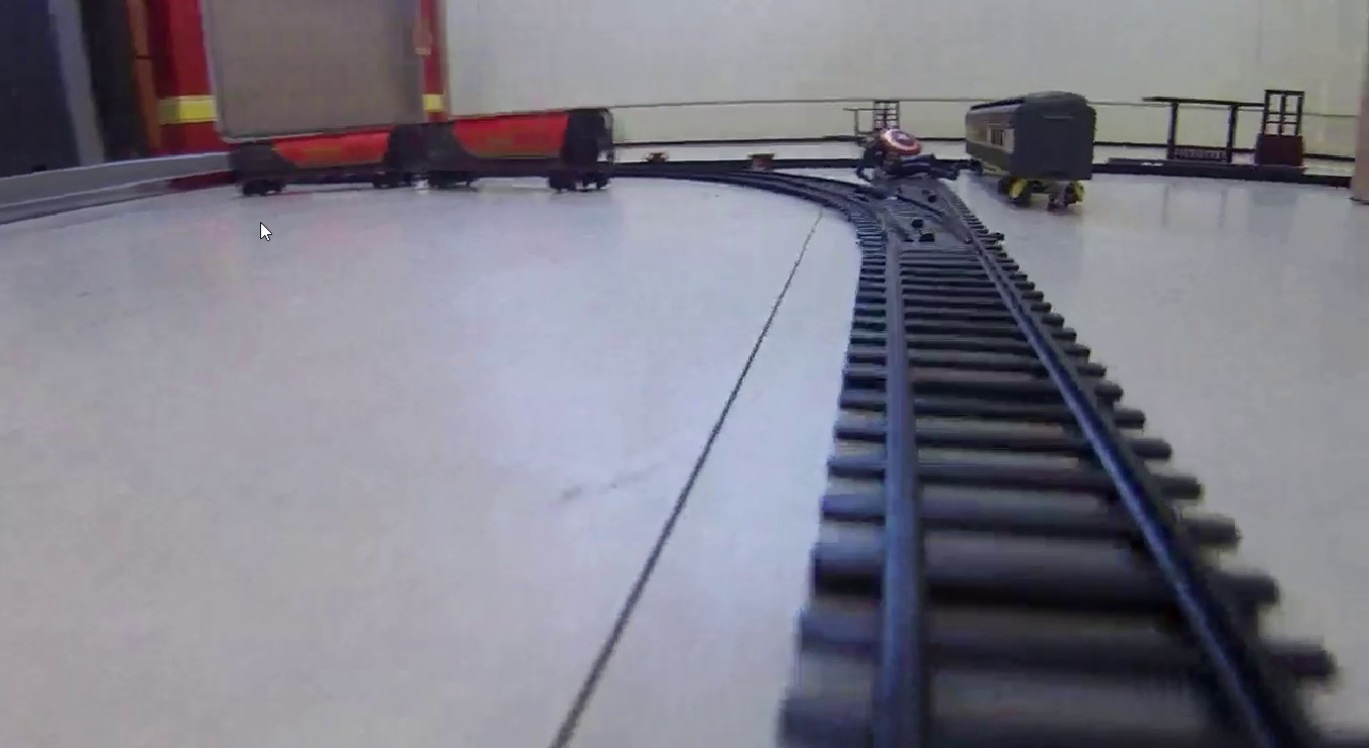people: (853, 127, 962, 181)
